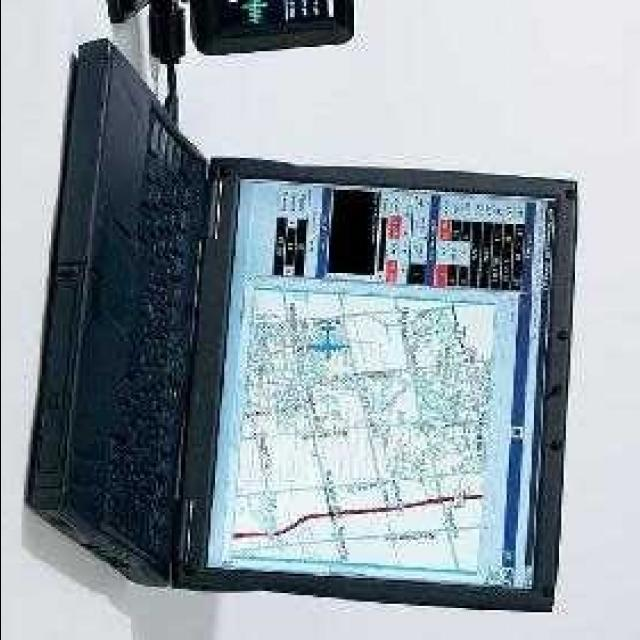laptop: (52, 113, 576, 560)
